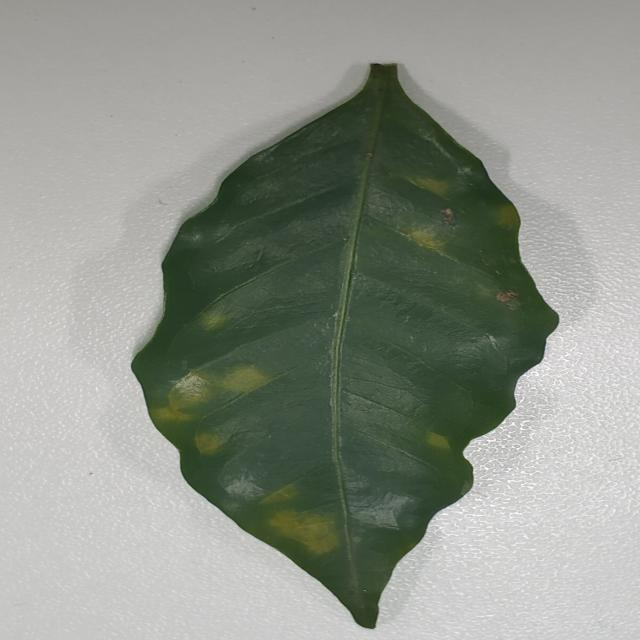Enfermedad-Roya: (130, 64, 560, 632)
